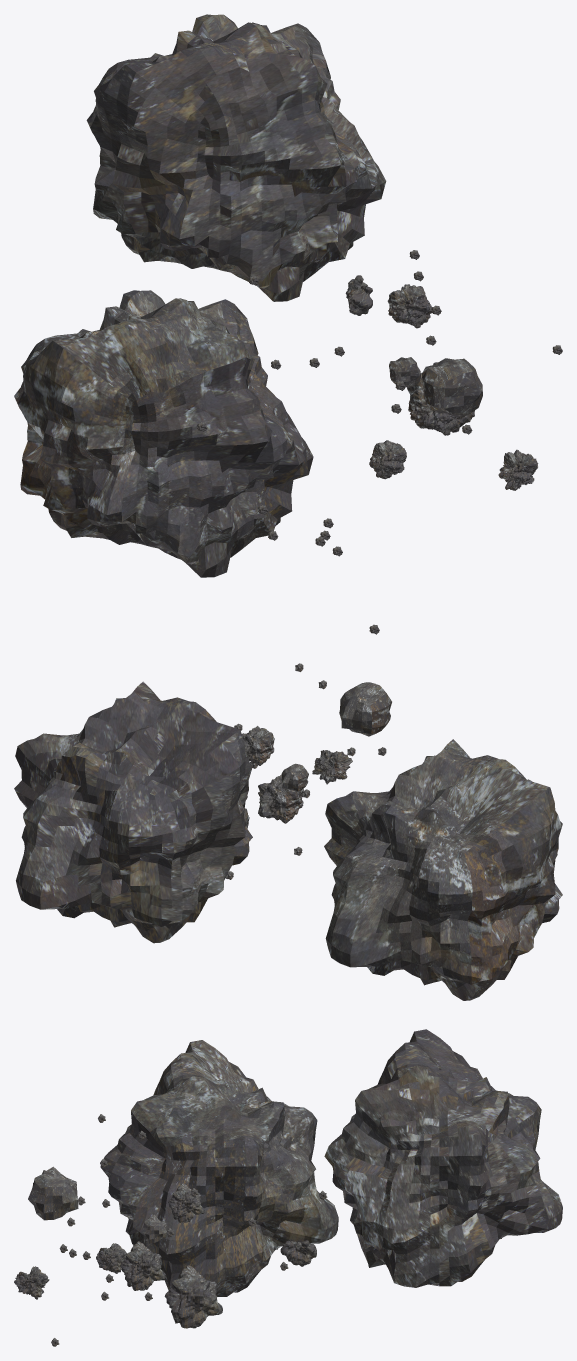
The model's file is asteroids.glb.
The picture shows the model from 3 angles, top to bottom: view 1: azimuth 30°, elevation 25°; view 2: azimuth 150°, elevation 25°; view 3: azimuth 270°, elevation 25°; orthographic projection. The views are drawn at different scales.
Visible parts, largest first — view 1: Cube.002, Cube.000, Cube.006, Cube.005, Cube.004, Cube.008, Cube.007, Cube.001, Cube.003; view 2: Cube.002, Cube.000, Cube.006, Cube.004, Cube.008, Cube.005, Cube.003; view 3: Cube.002, Cube.000, Cube.030, Cube.006, Cube.004, Cube.005, Cube.008, Cube.001, Cube.007, Cube.003.
Part boxes in pixels (x1,y1,x2,y2): Cube.002: (86,14,386,301); Cube.000: (14,290,313,577); Cube.006: (422,358,482,417); Cube.005: (387,284,431,328); Cube.004: (409,388,465,435); Cube.008: (498,449,538,490); Cube.007: (369,440,406,479); Cube.001: (345,275,372,315); Cube.003: (389,357,420,387); Cube.002: (14,681,252,943); Cube.000: (324,739,562,1000); Cube.006: (339,682,391,736); Cube.004: (258,774,303,823); Cube.008: (312,750,352,784); Cube.005: (241,726,274,765); Cube.003: (281,763,308,792); Cube.002: (324,1029,562,1287); Cube.000: (100,1040,338,1296); Cube.030: (164,1265,222,1328); Cube.006: (28,1166,78,1220); Cube.004: (120,1241,165,1290); Cube.005: (168,1183,204,1222); Cube.008: (14,1266,49,1299); Cube.001: (280,1240,316,1266); Cube.007: (96,1243,126,1273); Cube.003: (140,1214,167,1243).
Bounding box in the file's own units: 1522 × 1228 × 1891.
1 material, 1 textured.
